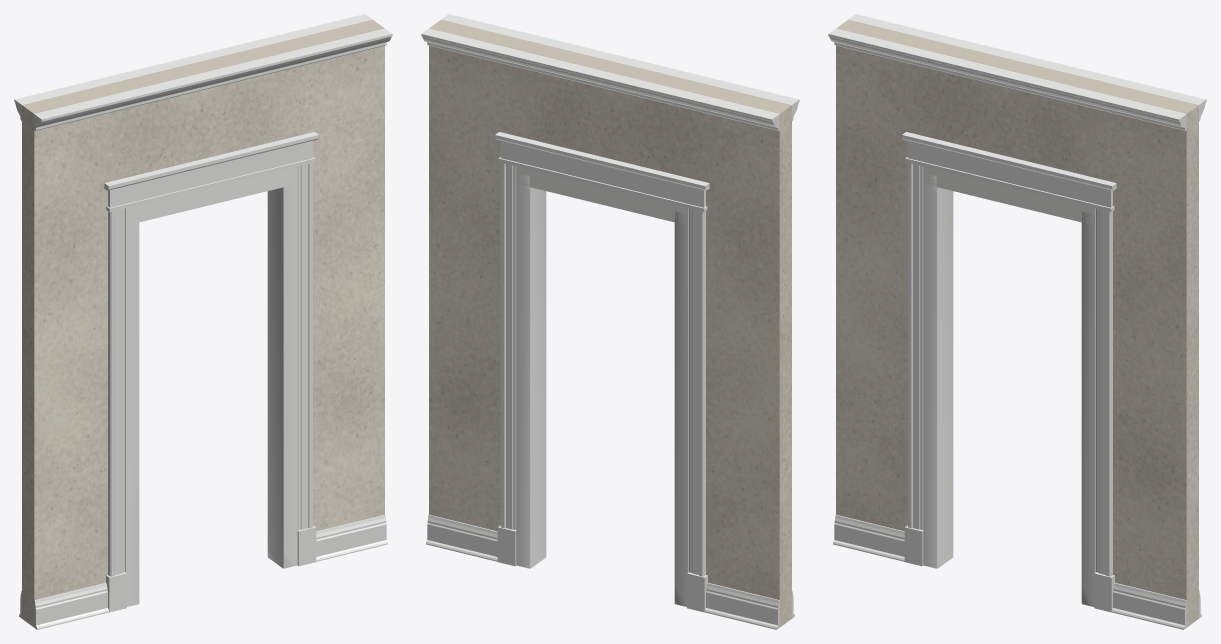
Rendered from interior_wall_doorway.glb.
3 renders of one model, left to right at view 1: azimuth 30°, elevation 25°; view 2: azimuth 150°, elevation 25°; view 3: azimuth 330°, elevation 25°, orthographic.
Visible parts, largest first — view 1: interior_wall_doorway_plaster, molduras, interior_wall_doorway_frame; view 2: interior_wall_doorway_plaster, molduras, interior_wall_doorway_frame; view 3: interior_wall_doorway_plaster, molduras, interior_wall_doorway_frame.
Part boxes in pixels (x1,y1,x2,y2): interior_wall_doorway_plaster: [22, 19, 384, 627]; molduras: [14, 14, 392, 629]; interior_wall_doorway_frame: [125, 166, 297, 606]; interior_wall_doorway_plaster: [429, 19, 791, 627]; molduras: [421, 14, 799, 629]; interior_wall_doorway_frame: [516, 166, 688, 606]; interior_wall_doorway_plaster: [836, 19, 1198, 627]; molduras: [828, 14, 1206, 629]; interior_wall_doorway_frame: [923, 166, 1095, 606].
Size of the model in its own units: 2 by 2.8 by 0.27.
3 materials, 1 textured.
